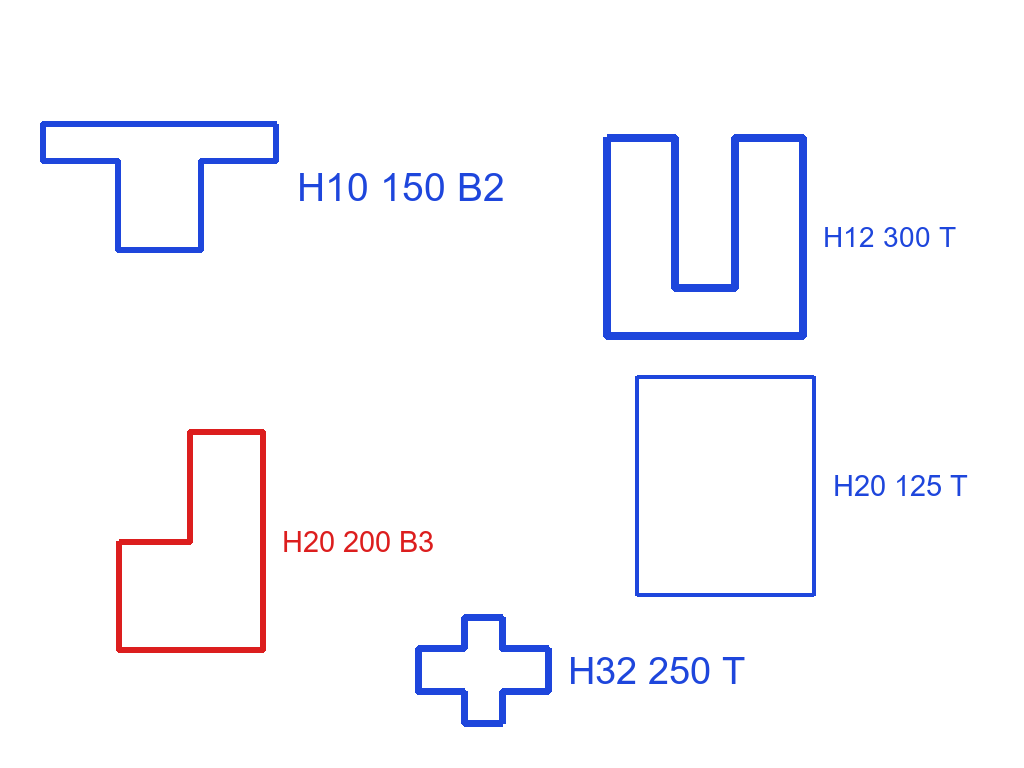shape: (601, 132, 809, 342), (634, 372, 817, 599), (114, 427, 267, 655), (38, 120, 282, 255), (413, 612, 554, 729)
text: (295, 171, 507, 203), (566, 655, 747, 686), (280, 529, 436, 554), (831, 473, 970, 498), (821, 225, 958, 249)
